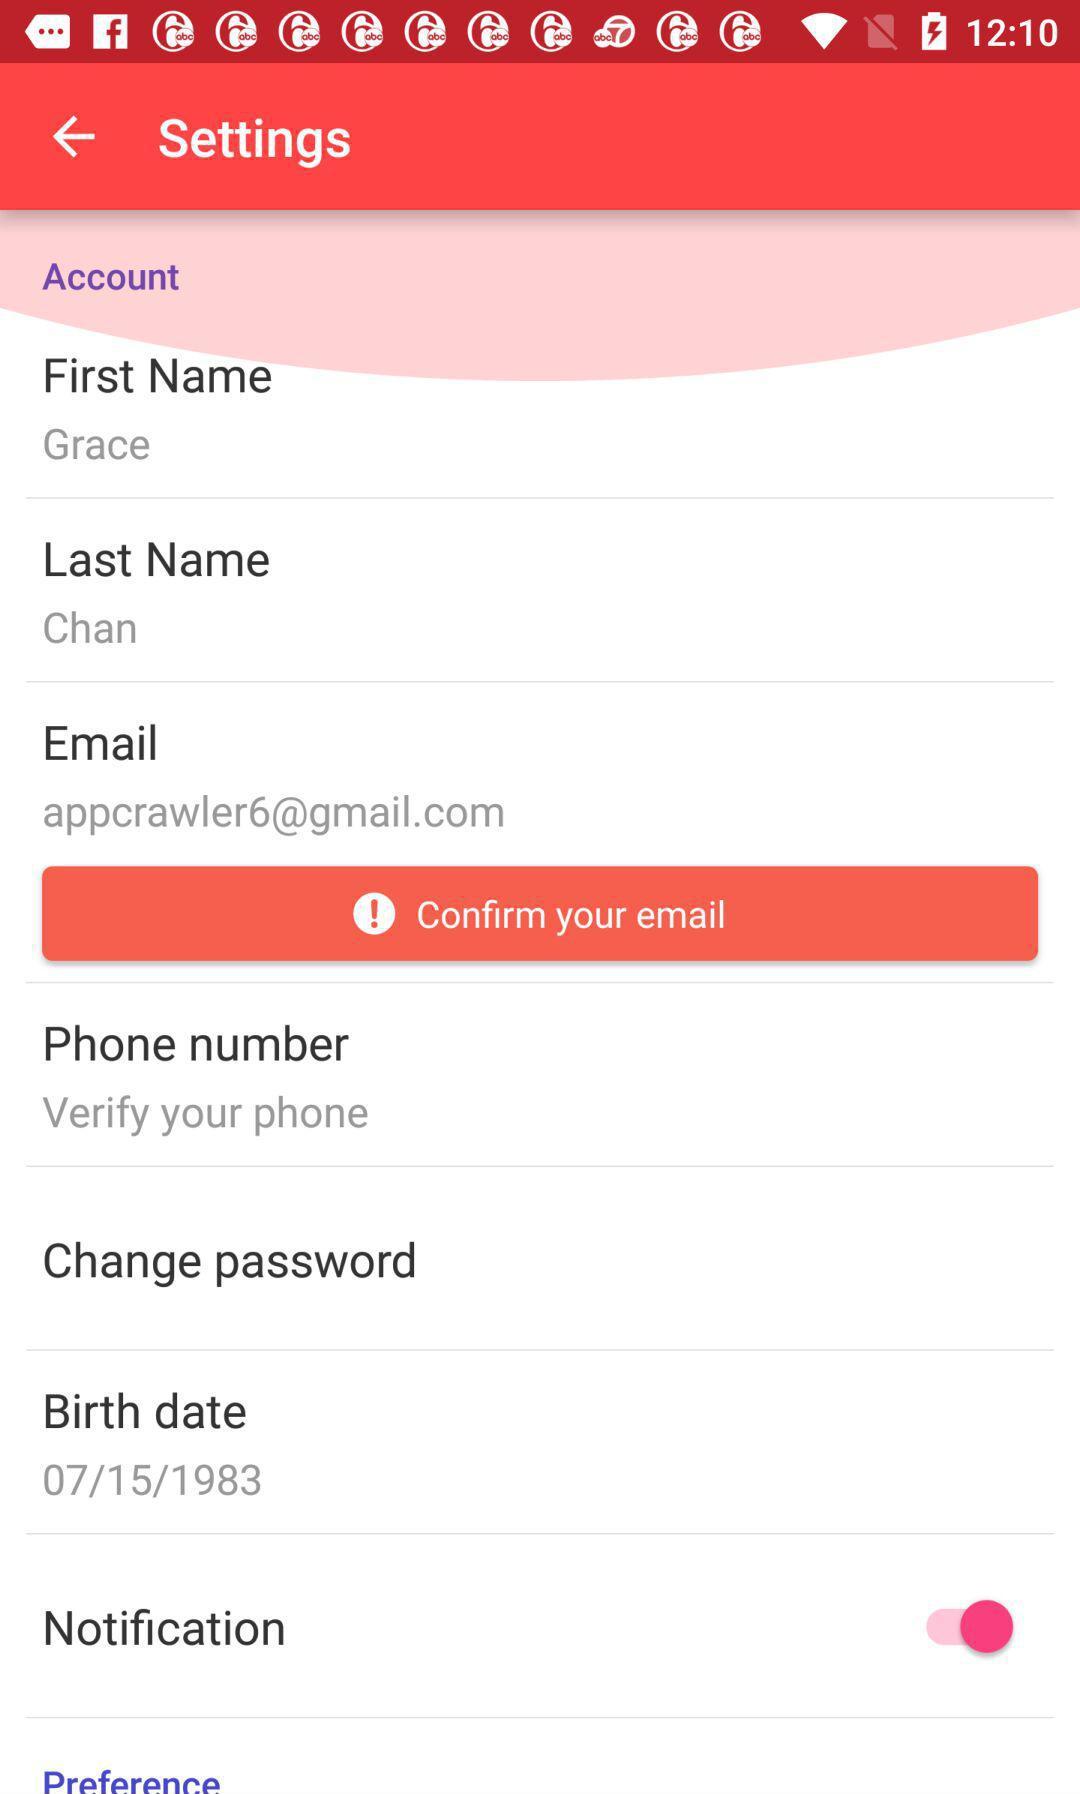Icon: (53, 115, 97, 160)
Switch: (925, 1599, 1015, 1656)
Text: (44, 794, 506, 838), (44, 1240, 416, 1288), (44, 1094, 369, 1139), (45, 1023, 351, 1064), (159, 117, 352, 170), (45, 1607, 286, 1648), (45, 541, 272, 579), (45, 358, 273, 395), (44, 1462, 263, 1499), (45, 1390, 247, 1430), (44, 1768, 222, 1794), (45, 723, 158, 762), (42, 261, 181, 293), (44, 428, 151, 463), (44, 610, 137, 646)
TextButton: (42, 865, 1039, 964)
Toolbar: (1, 64, 1080, 211)
UpperTaskBar: (1, 1, 1080, 64)
